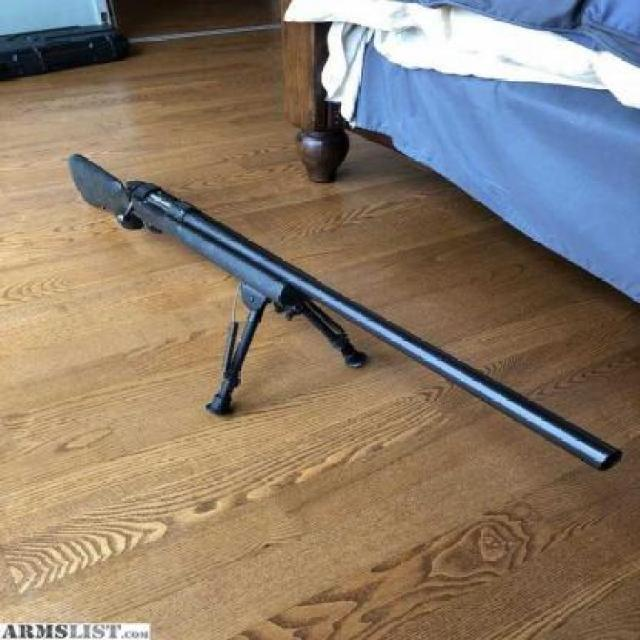weapon: (64, 150, 624, 473)
